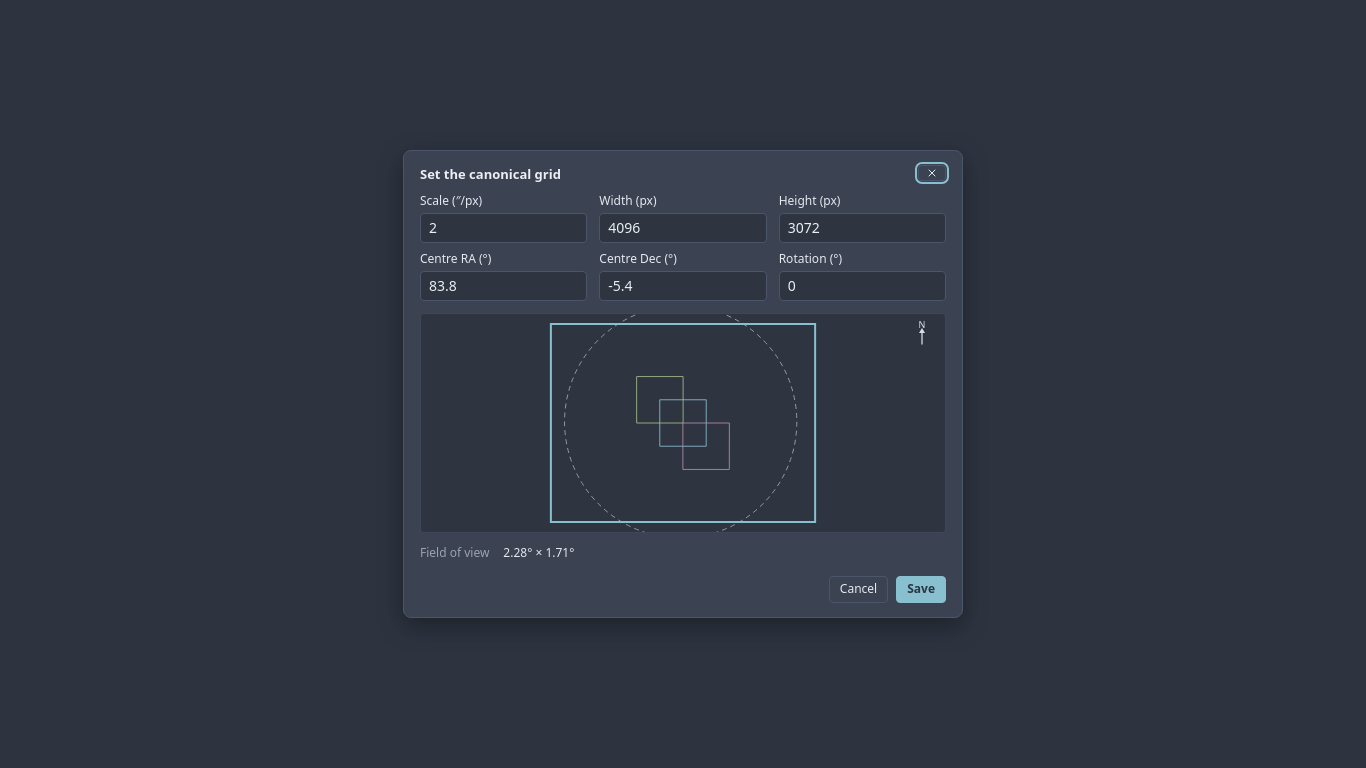
Test: GridDialog › clears the refusal when the grid is edited
Click the button "Save" at (921, 590), box [896, 576, 946, 603]
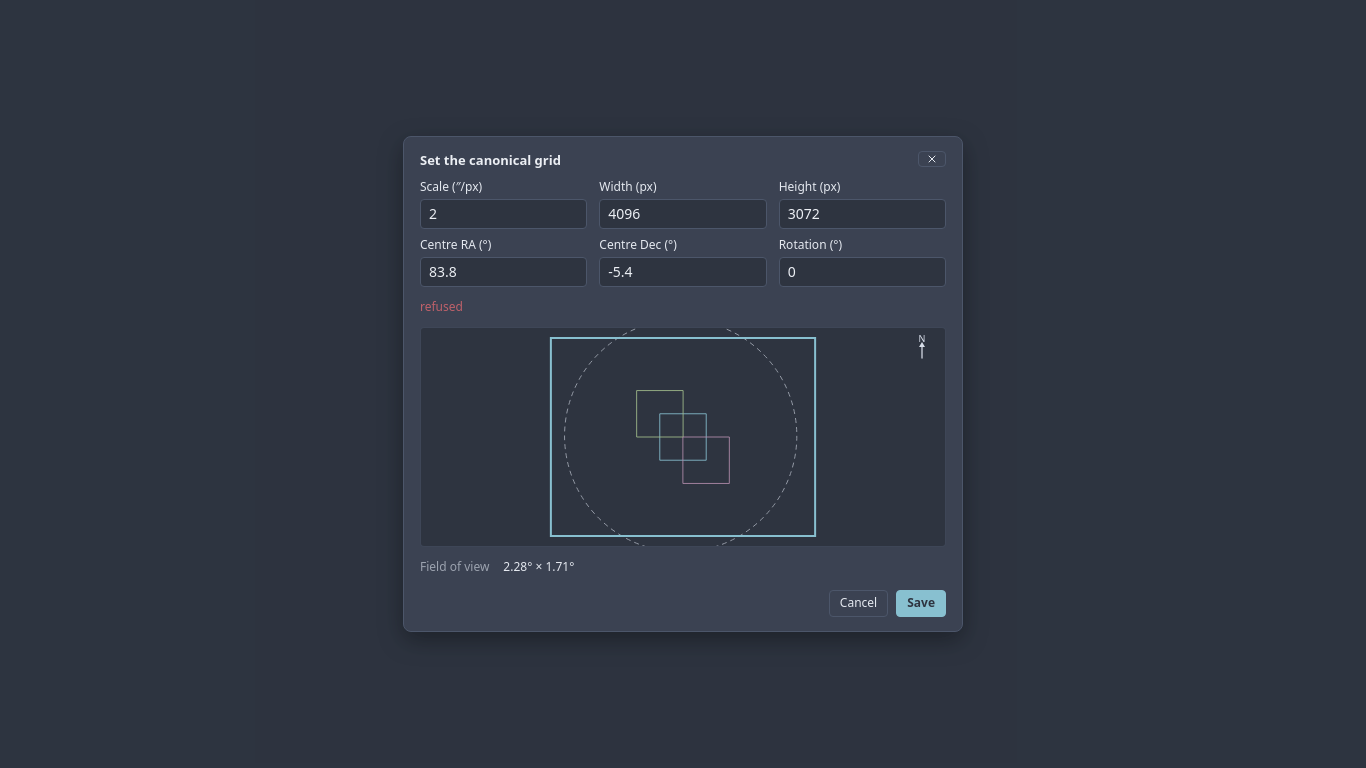
Expected: the message "refused" is shown, [420, 298, 463, 315]
Replace the text in the number field labelled "Width (px)" with "2000" at (683, 214), box [599, 199, 767, 229]
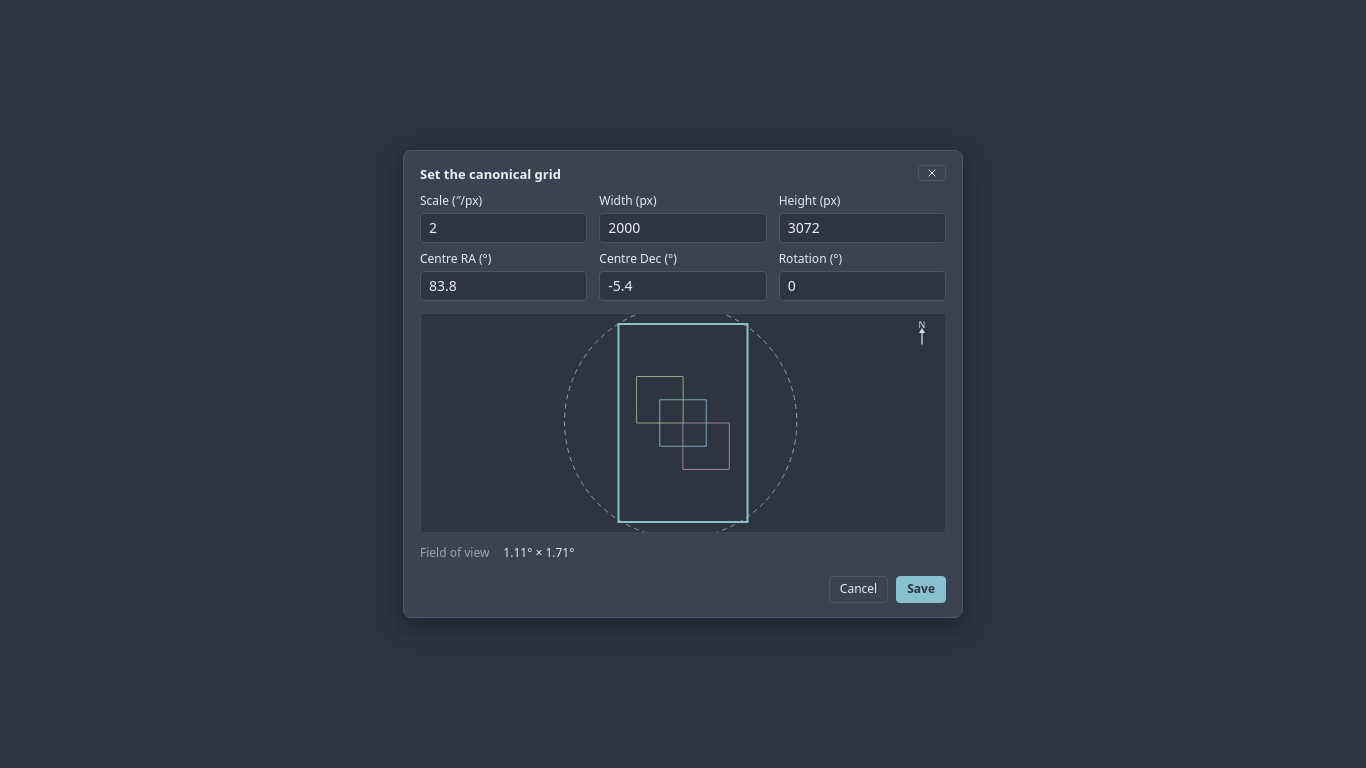
Expected: the message "refused" is gone
